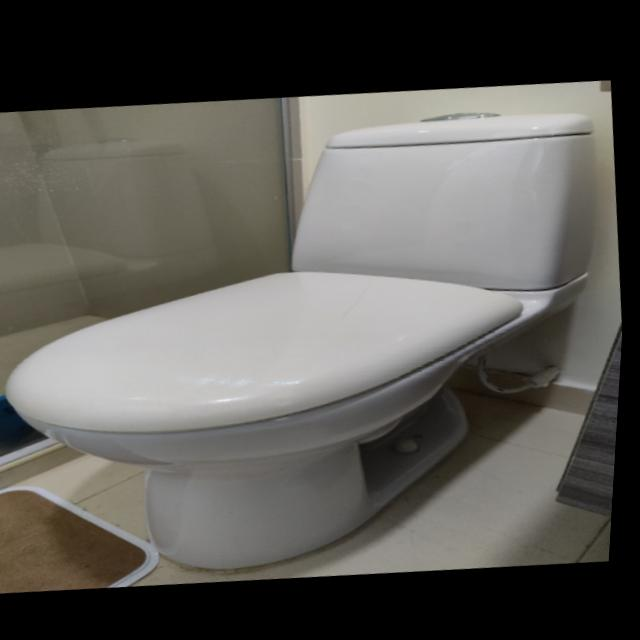toilet: (0, 75, 637, 603)
